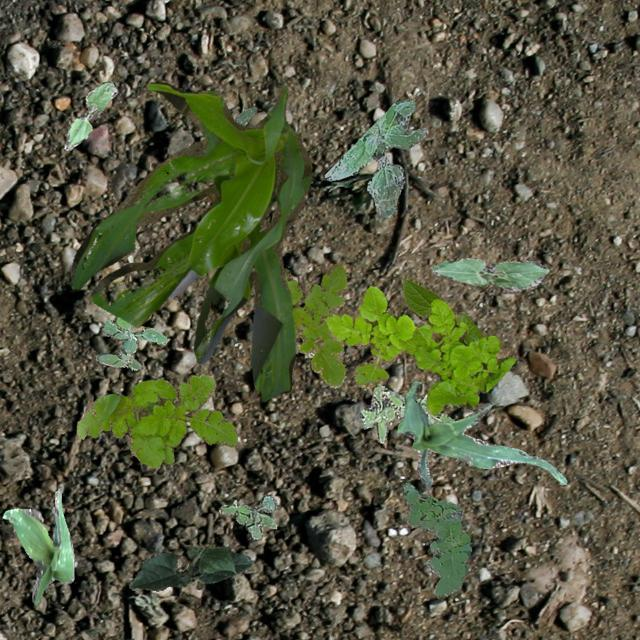crop: (72, 82, 310, 400), (397, 380, 566, 488), (2, 489, 72, 604), (402, 276, 484, 344), (128, 546, 252, 590), (430, 256, 548, 290), (64, 80, 116, 150)
weed: (323, 286, 514, 416), (75, 374, 236, 466), (324, 98, 426, 218), (402, 482, 470, 594), (283, 264, 345, 386), (358, 384, 456, 442), (95, 316, 167, 370), (218, 493, 276, 538), (234, 106, 256, 125)
